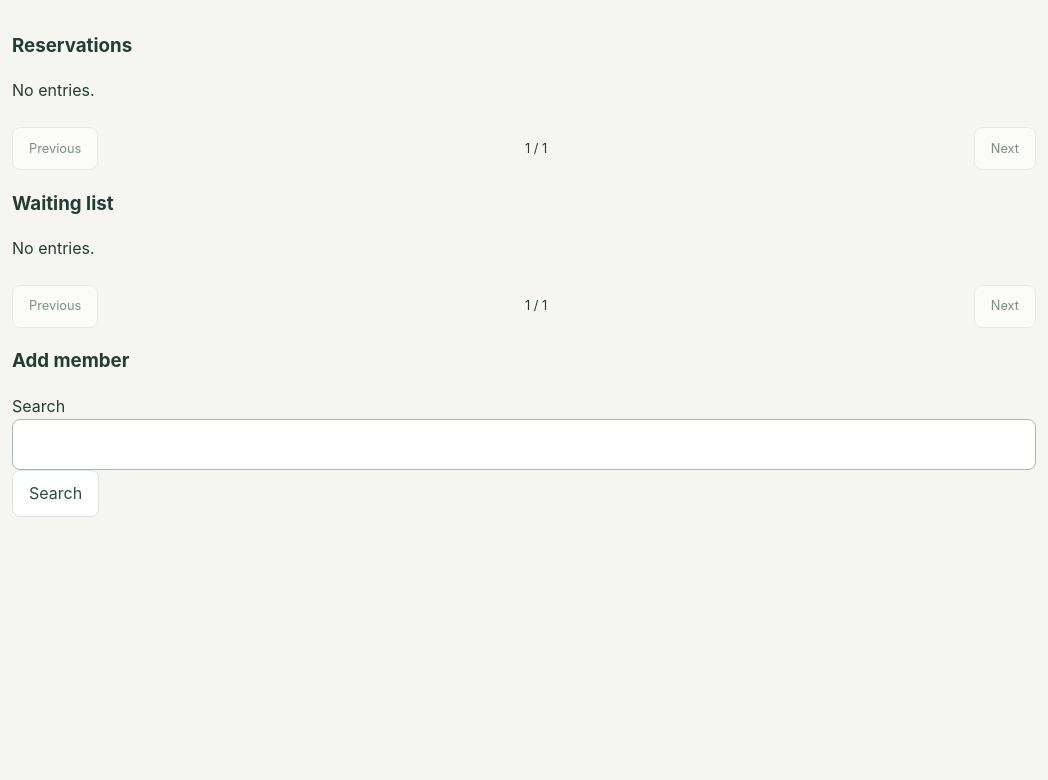
Test: adds offline member and renders reserved outcome
The width and height of the screenshot is (1048, 780).
In the field: (524, 444) [12,419,1036,470], type "Offline"
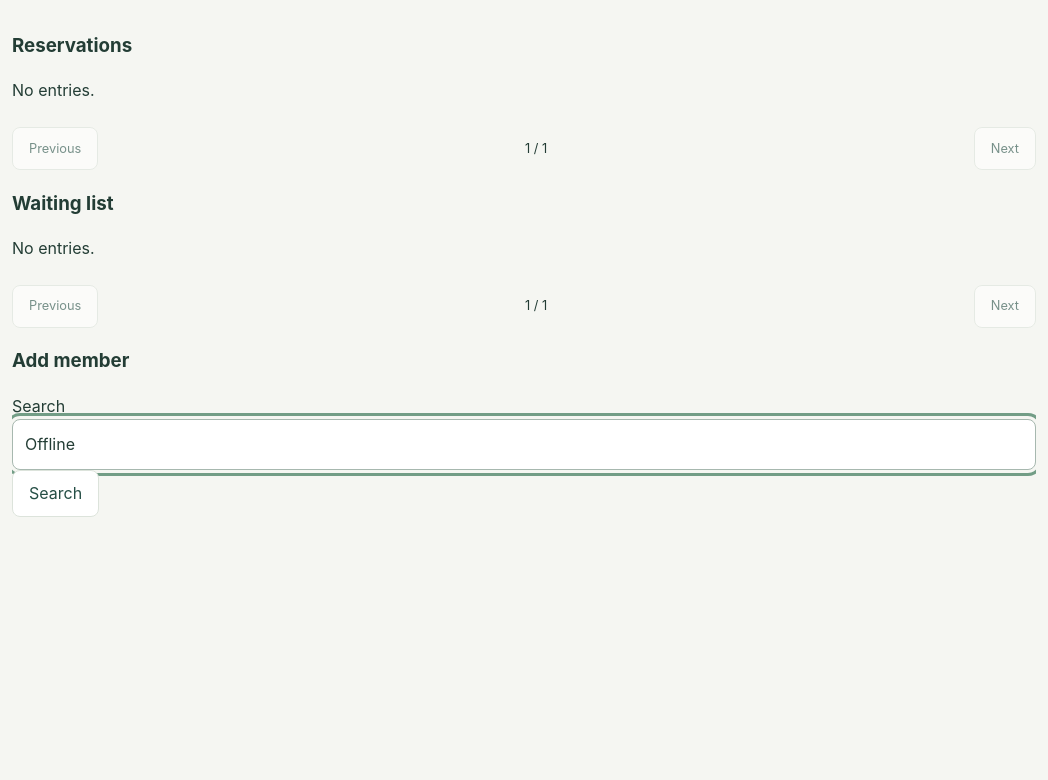
Click the button "Search": (56, 494) [12,470,99,517]
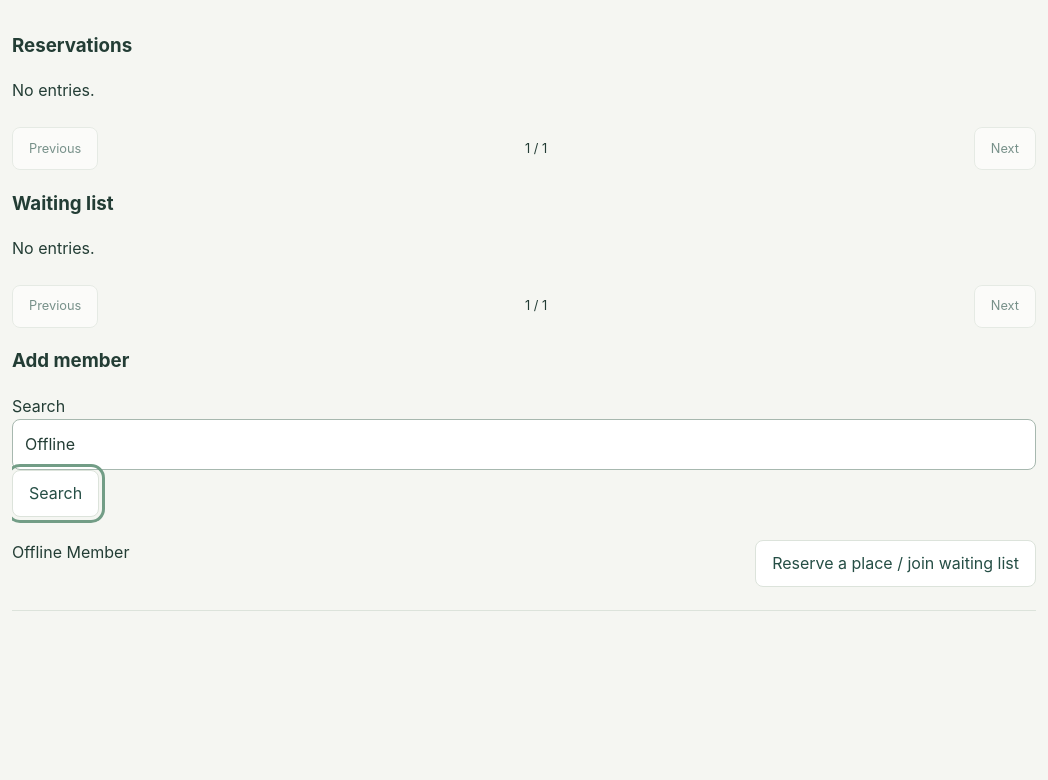
Click the button "Reserve a place / join waiting list": (896, 564) [755,540,1036,587]
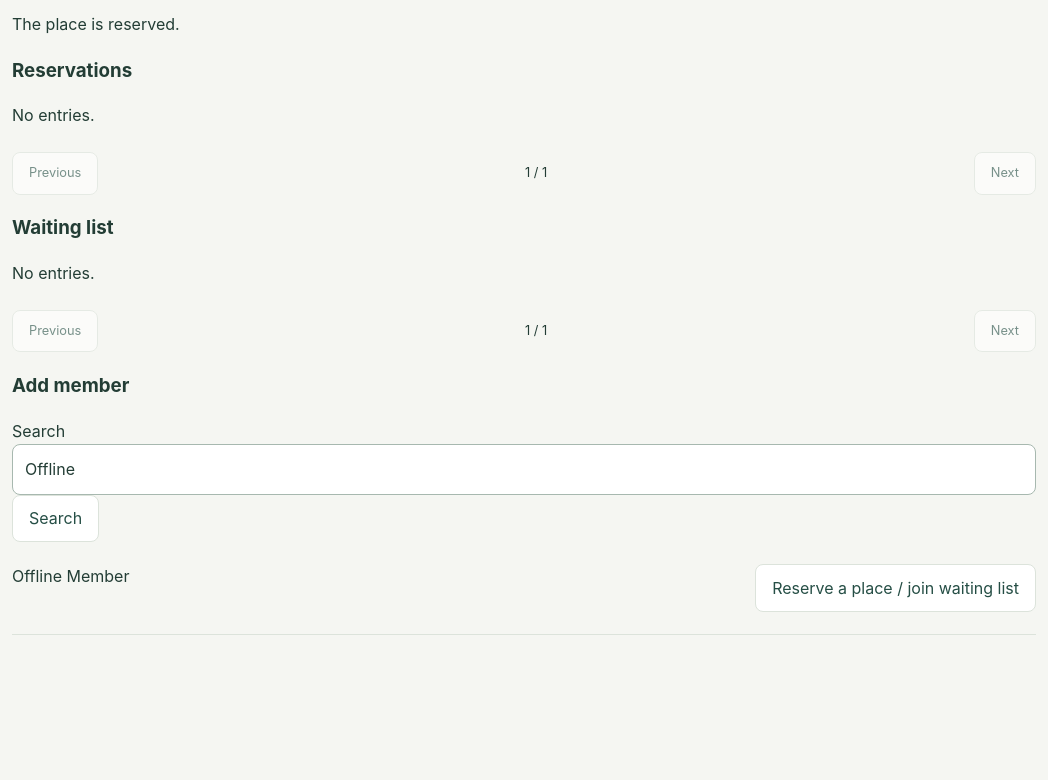
Check: the message reads "The place is reserved.", box [12,14,180,34]
